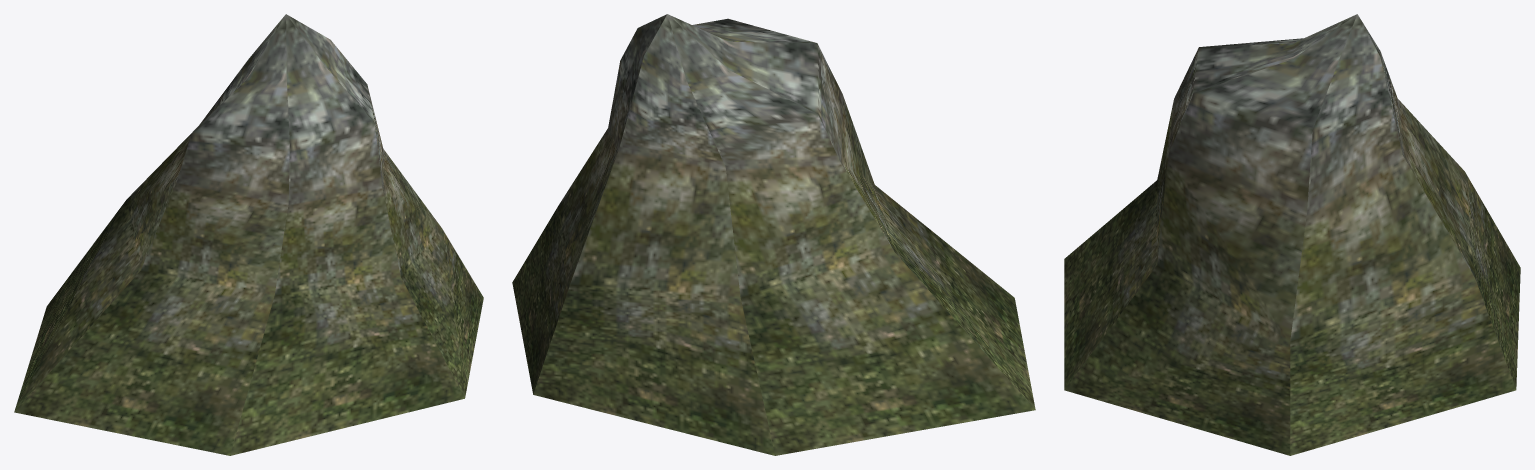
The model's file is OZ_05_nk_rock02D.glb.
The picture shows the model from 3 angles, left to right: view 1: azimuth 30°, elevation 25°; view 2: azimuth 150°, elevation 25°; view 3: azimuth 270°, elevation 25°; orthographic projection. The views are drawn at different scales.
Parts seen in each view (by area): view 1: OM_05_nk_rock02D; view 2: OM_05_nk_rock02D; view 3: OM_05_nk_rock02D.
Part boxes in pixels (x1=…): OM_05_nk_rock02D: x1=14, y1=14, x2=483, y2=455; OM_05_nk_rock02D: x1=512, y1=14, x2=1035, y2=455; OM_05_nk_rock02D: x1=1064, y1=14, x2=1520, y2=455.
Bounding box in the file's own units: 3.91 × 2.41 × 2.87.
Materials: 1 (1 with a texture image).
